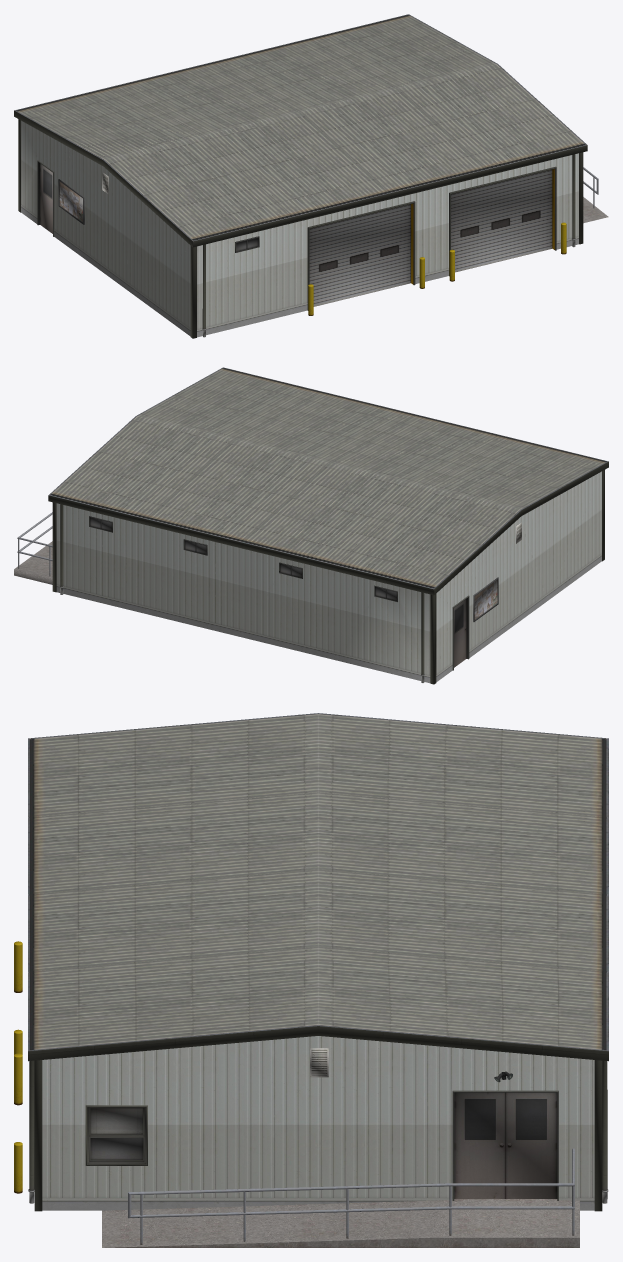
File: road_depot.obj
The picture shows the model from 3 angles, top to bottom: view 1: azimuth 30°, elevation 25°; view 2: azimuth 150°, elevation 25°; view 3: azimuth 270°, elevation 25°; orthographic projection. The views are drawn at different scales.
Visible parts, largest first — view 1: road_depot; view 2: road_depot; view 3: road_depot.
Boxes of the visible parts, x1,y1,x2,y2 form: road_depot: [14, 14, 608, 338]; road_depot: [14, 367, 608, 684]; road_depot: [14, 713, 608, 1247].
Size of the model in its own units: 10.1 by 2.53 by 7.3.
1 material, 1 textured.
